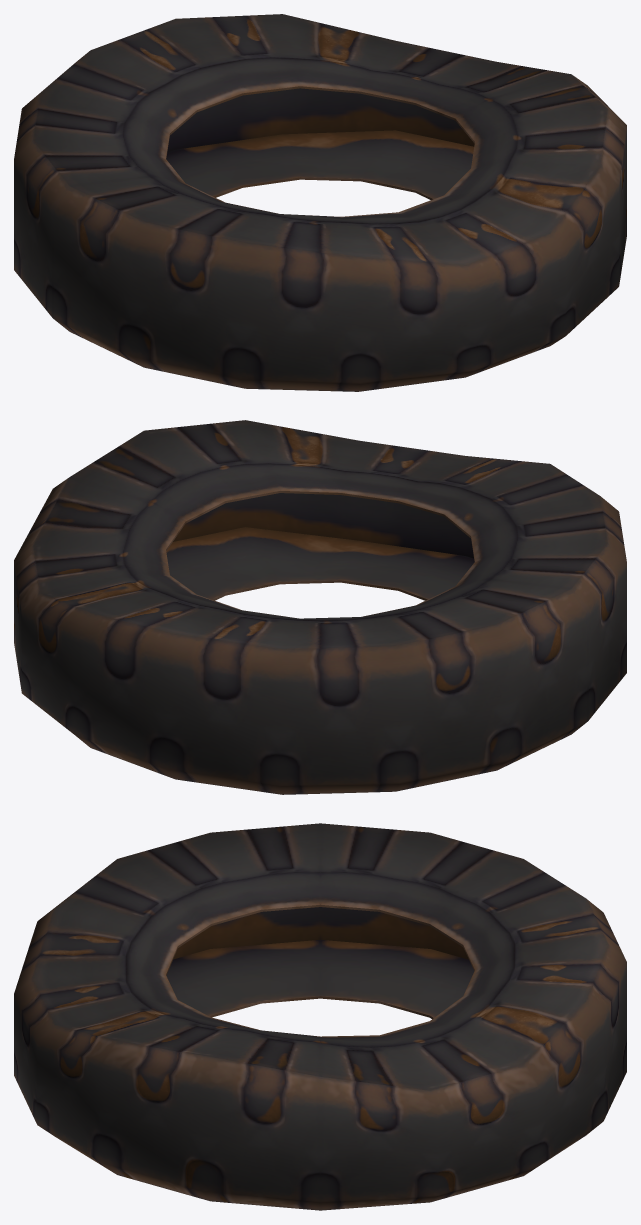
The model's file is Tires01_1.FBX.
3 renders of one model, top to bottom at view 1: azimuth 30°, elevation 25°; view 2: azimuth 150°, elevation 25°; view 3: azimuth 270°, elevation 25°, orthographic.
Parts seen in each view (by area): view 1: Tires01_1; view 2: Tires01_1; view 3: Tires01_1.
Boxes of the visible parts, bbox=[...] form: Tires01_1: bbox=[14, 14, 626, 391]; Tires01_1: bbox=[14, 420, 626, 794]; Tires01_1: bbox=[14, 823, 626, 1210].
Size of what is drawn, in the model's own units: 0.9622 by 0.2519 by 0.9622.
